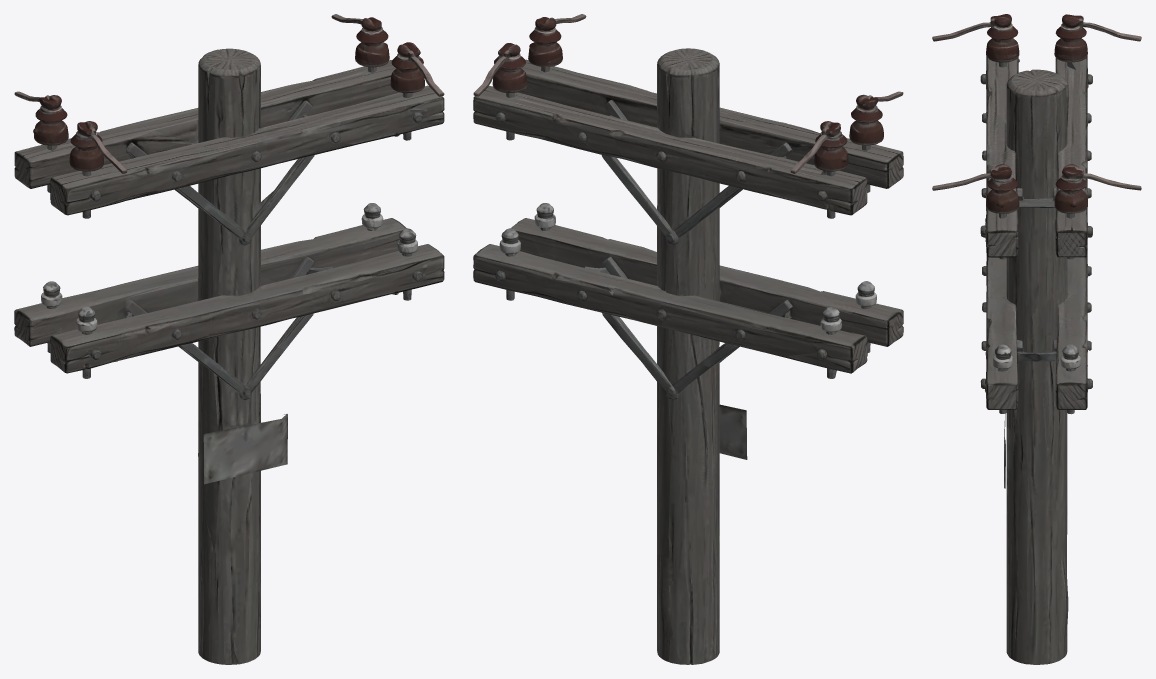
Rendered from wood_pole.glb.
3 views of the same model, side by side, from view 1: azimuth 30°, elevation 25°; view 2: azimuth 150°, elevation 25°; view 3: azimuth 270°, elevation 25° (orthographic). The views are drawn at different scales.
Size of the model in its own units: 1.28 by 1.9 by 0.6307.
Materials: 1 (1 with a texture image).
